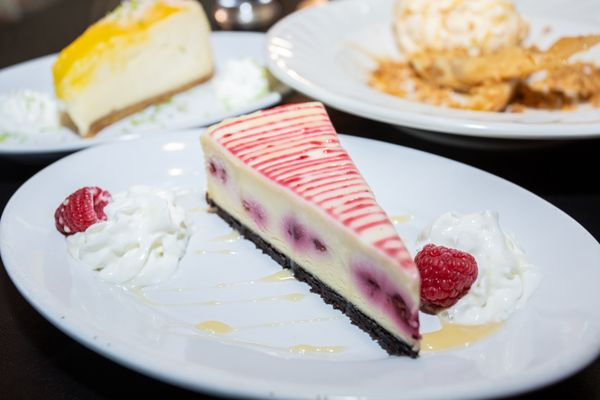sandwich: (199, 99, 423, 357)
